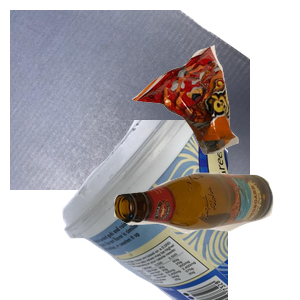cardboard: (10, 10, 250, 190)
glass: (111, 170, 300, 300)
plastic: (60, 120, 300, 300)
trash: (130, 43, 300, 190)
